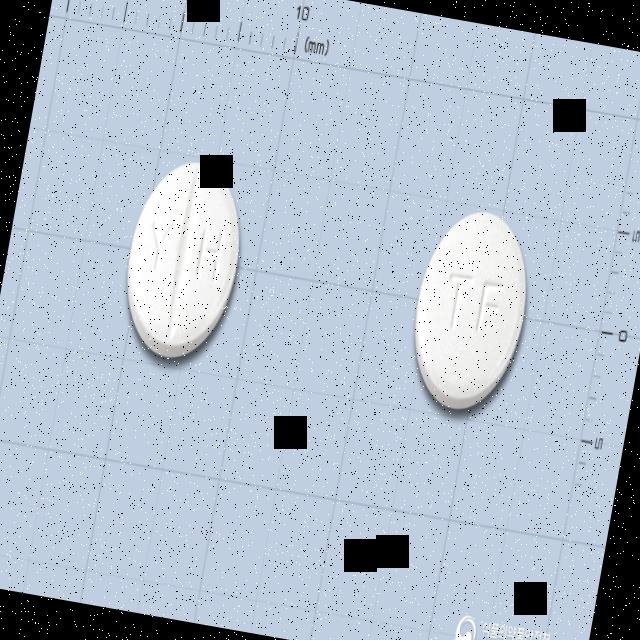Curasil: (399, 201, 542, 420), (112, 150, 255, 368)
